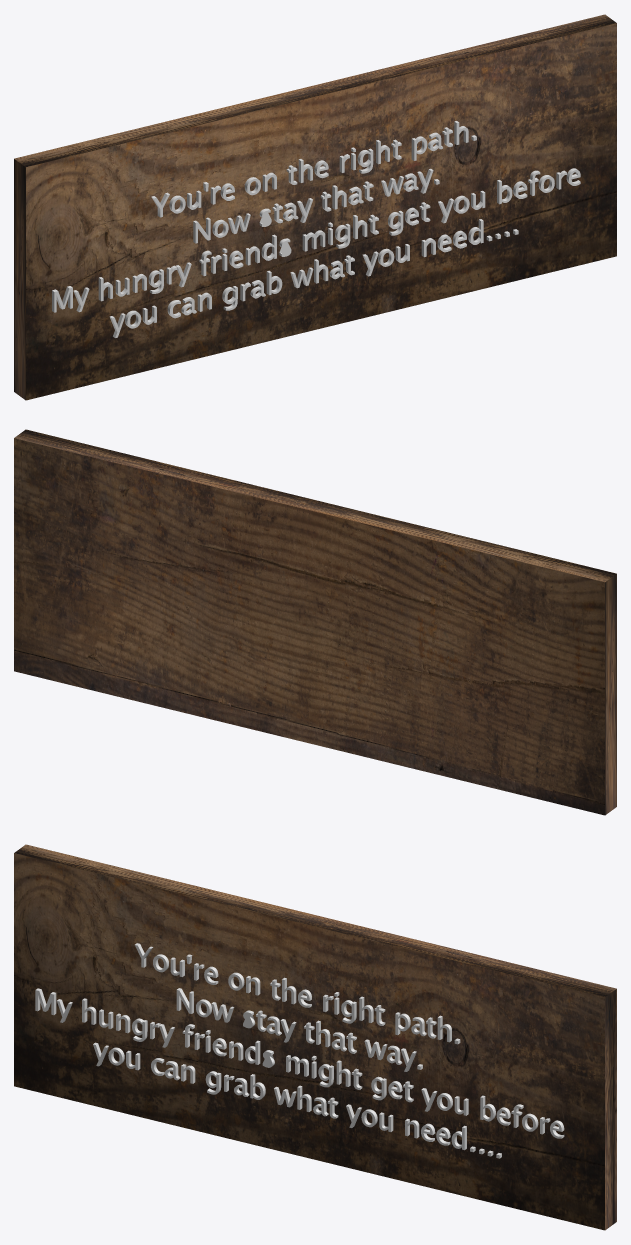
The model's file is text path.fbx.
3 views of the same model, one above another, from view 1: azimuth 30°, elevation 25°; view 2: azimuth 150°, elevation 25°; view 3: azimuth 330°, elevation 25° (orthographic).
Visible parts, largest first — view 1: pasted__pasted__pCube1, typeMesh4; view 2: pasted__pasted__pCube1; view 3: pasted__pasted__pCube1, typeMesh4.
Part boxes in pixels (x1,y1,x2,y2): pasted__pasted__pCube1: (14, 14, 616, 400); typeMesh4: (52, 121, 580, 337); pasted__pasted__pCube1: (14, 429, 616, 815); pasted__pasted__pCube1: (14, 844, 616, 1230); typeMesh4: (35, 943, 564, 1158).
Size of the model in its own units: 3.56 by 1.34 by 0.161.
Materials: 2 (1 with a texture image).
